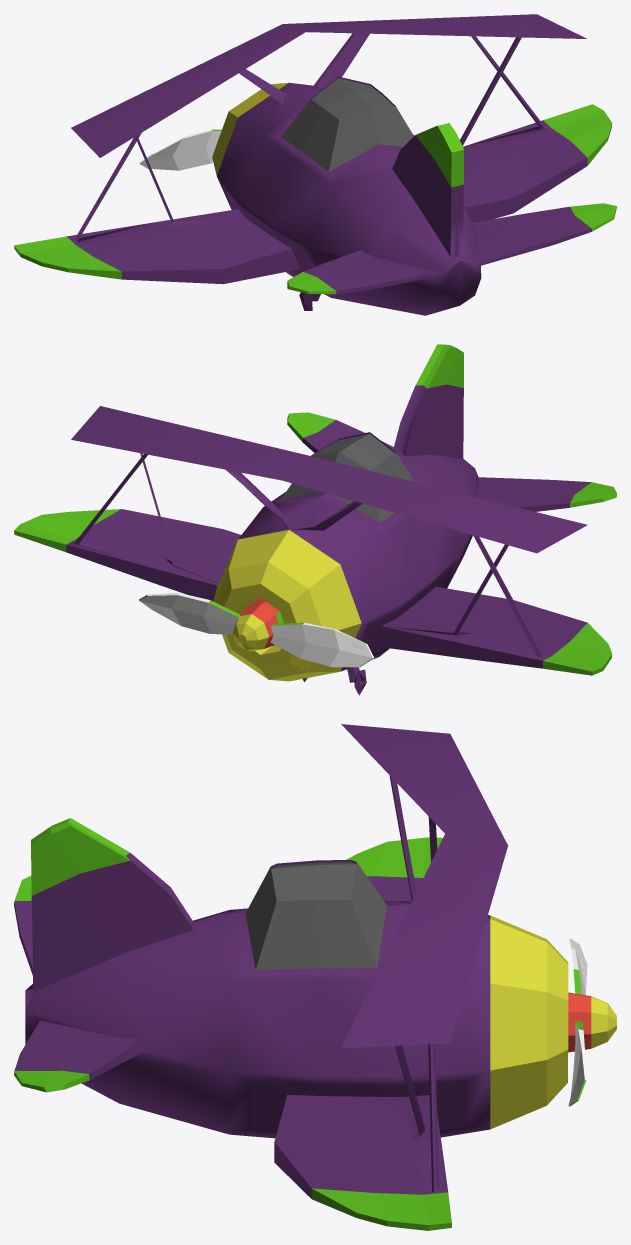
3 renders of one model, top to bottom at view 1: azimuth 30°, elevation 25°; view 2: azimuth 150°, elevation 25°; view 3: azimuth 270°, elevation 25°, orthographic. The views are drawn at different scales.
Visible parts, largest first — view 1: Cylinder_0, Cylinder.001_1; view 2: Cylinder_0, Cylinder.001_1; view 3: Cylinder_0, Cylinder.001_1.
Boxes of the visible parts, x1=… form: Cylinder_0: x1=14, y1=14, x2=616, y2=315; Cylinder.001_1: x1=139, y1=129, x2=221, y2=170; Cylinder_0: x1=14, y1=344, x2=616, y2=695; Cylinder.001_1: x1=139, y1=593, x2=374, y2=667; Cylinder_0: x1=14, y1=724, x2=568, y2=1230; Cylinder.001_1: x1=568, y1=939, x2=616, y2=1106.
Bounding box in the file's own units: 6.73 × 2.89 × 4.42.
